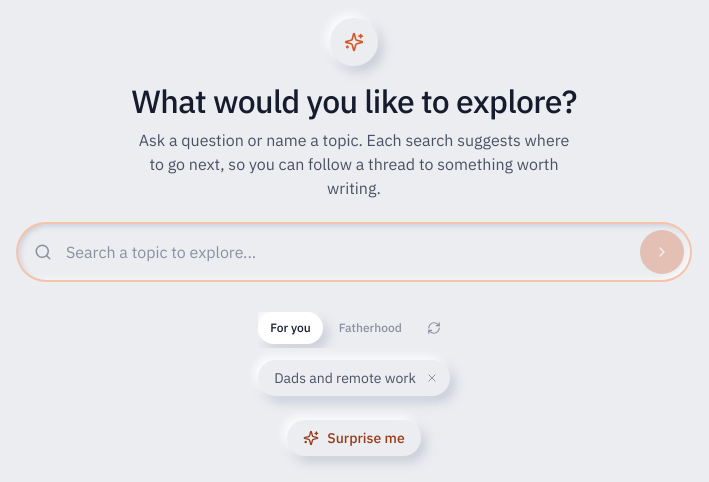
Test case: ExploreWorkspace › leads with topics for the writer and refresh brings new categories
Expected: the button "Dads and remote work" is shown, [258,360,422,396]
Note: "Not for me" removes the topic now and steers the next set
Click the tab "Fatherhood" at (370, 328), box [327,312,414,344]
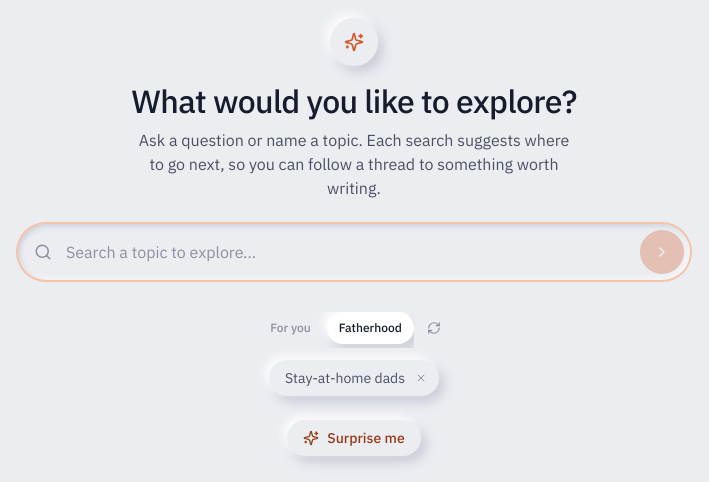
Click the button named "Not for me: Stay-at-home dads" at (425, 378), box [411,360,439,396]
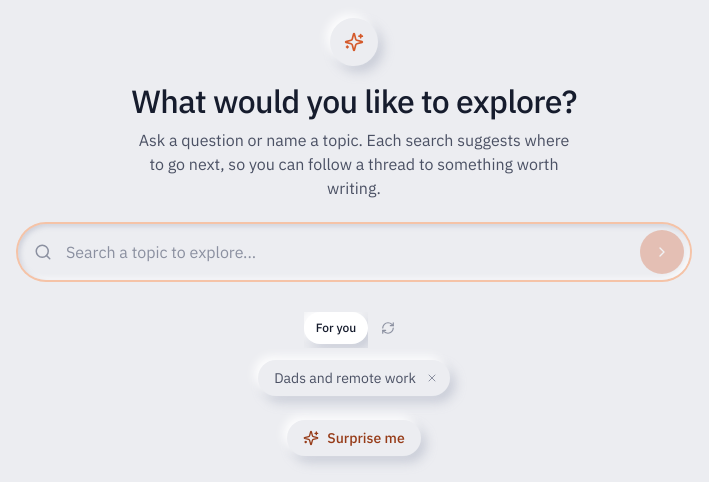
Expected: the button "Stay-at-home dads" is gone
Click the button named "Show different topics" at (388, 328), box [372,312,404,344]
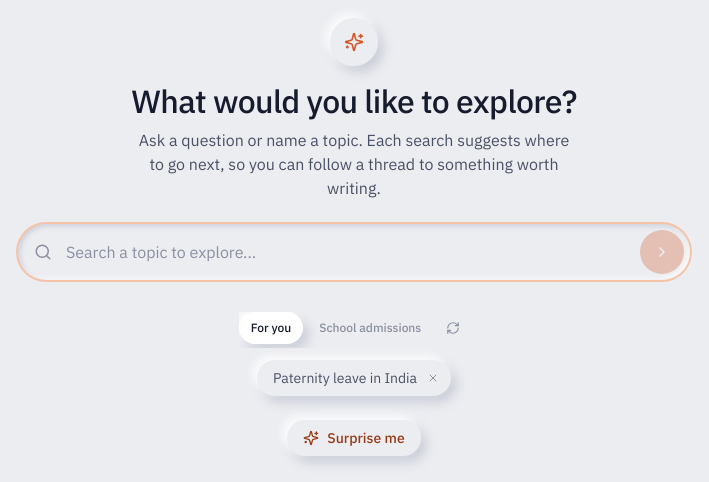
Expected: the tab "Fatherhood" is not shown
Expected: the tab "School admissions" is shown, [307,312,433,344]
Expected: the button "Paternity leave in India" is shown, [257,360,423,396]
